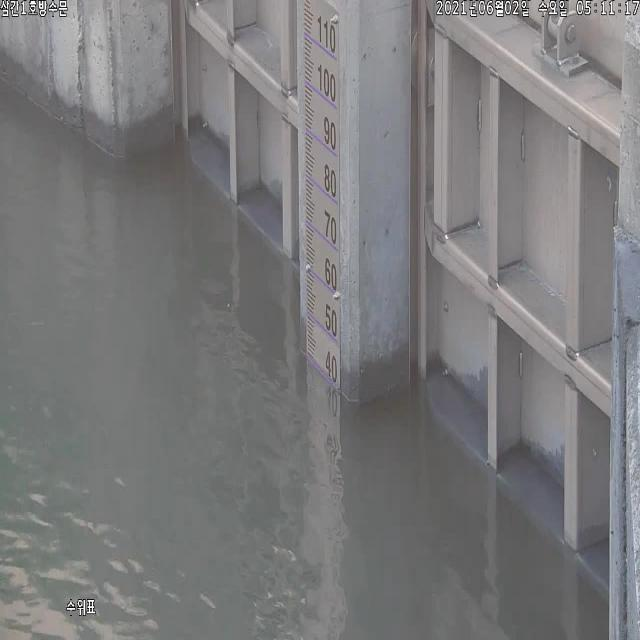ruler: (296, 0, 350, 398)
value: (315, 60, 338, 106), (316, 10, 338, 55), (321, 207, 340, 247), (321, 114, 338, 152), (323, 348, 340, 386), (322, 162, 338, 202), (323, 255, 340, 292), (324, 298, 339, 339)
